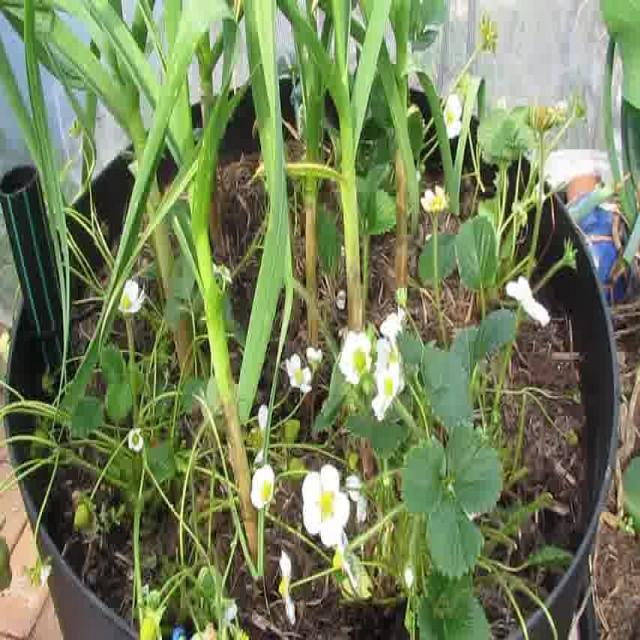Fruta sana: (72, 492, 96, 534), (141, 606, 167, 640), (30, 418, 48, 460), (277, 418, 300, 450), (0, 536, 12, 592), (281, 457, 306, 480), (42, 374, 55, 394), (348, 452, 360, 470)
Moho gris: (190, 623, 217, 640)
